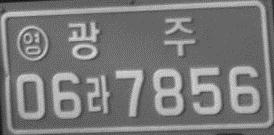0: (15, 73, 46, 121)
5: (189, 66, 223, 115)
6: (227, 65, 261, 115), (50, 72, 82, 120)
7: (114, 69, 145, 118)
8: (151, 67, 185, 116)
광주_D: (65, 17, 196, 59)
라: (85, 75, 112, 115)
영: (15, 24, 48, 61)
